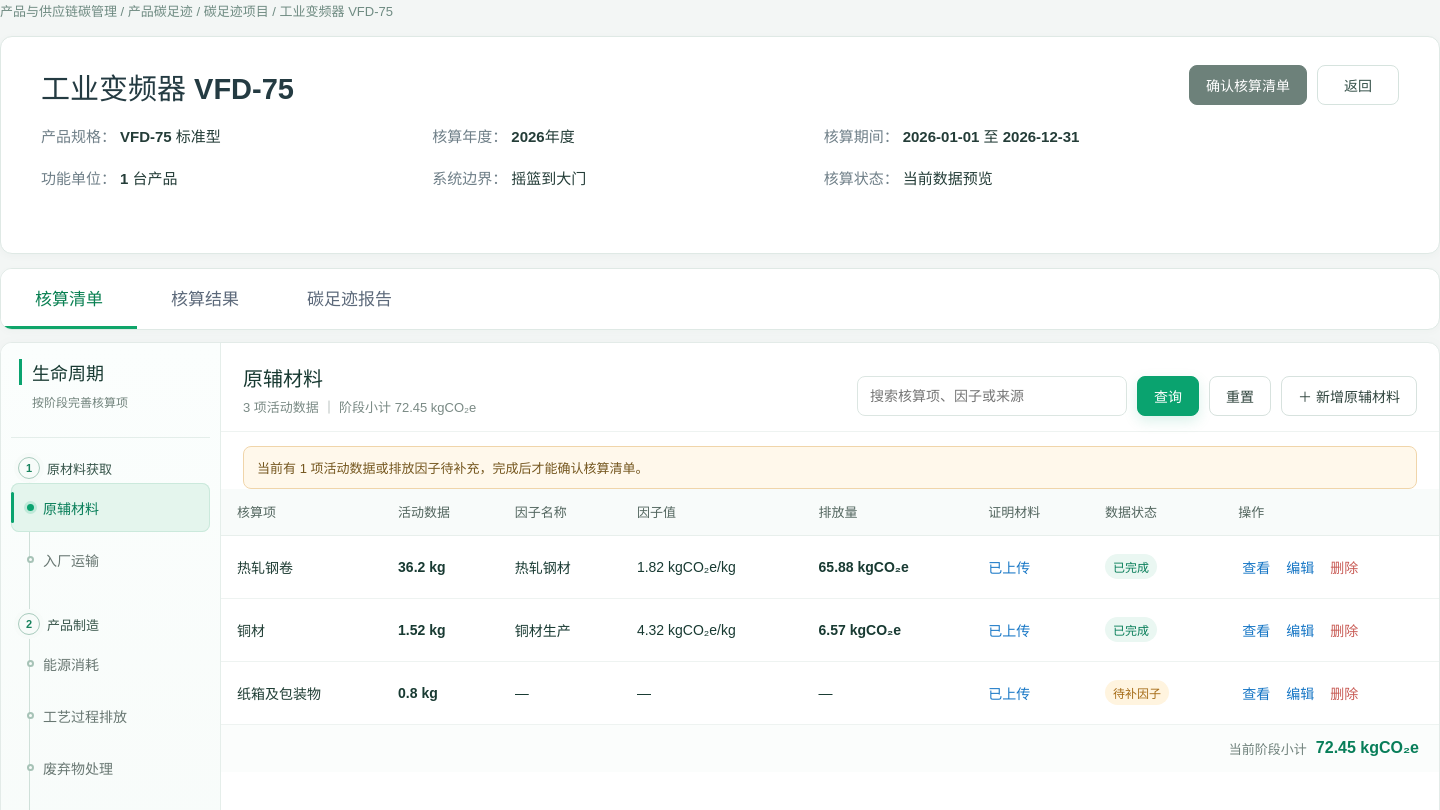
Test: 产品碳足迹运输活动 › 在项目工作台内保持当前项目上下文并切换 Tab
Click the button "核算结果" at (205, 299), box [137,269,273,329]
(page scrolled)
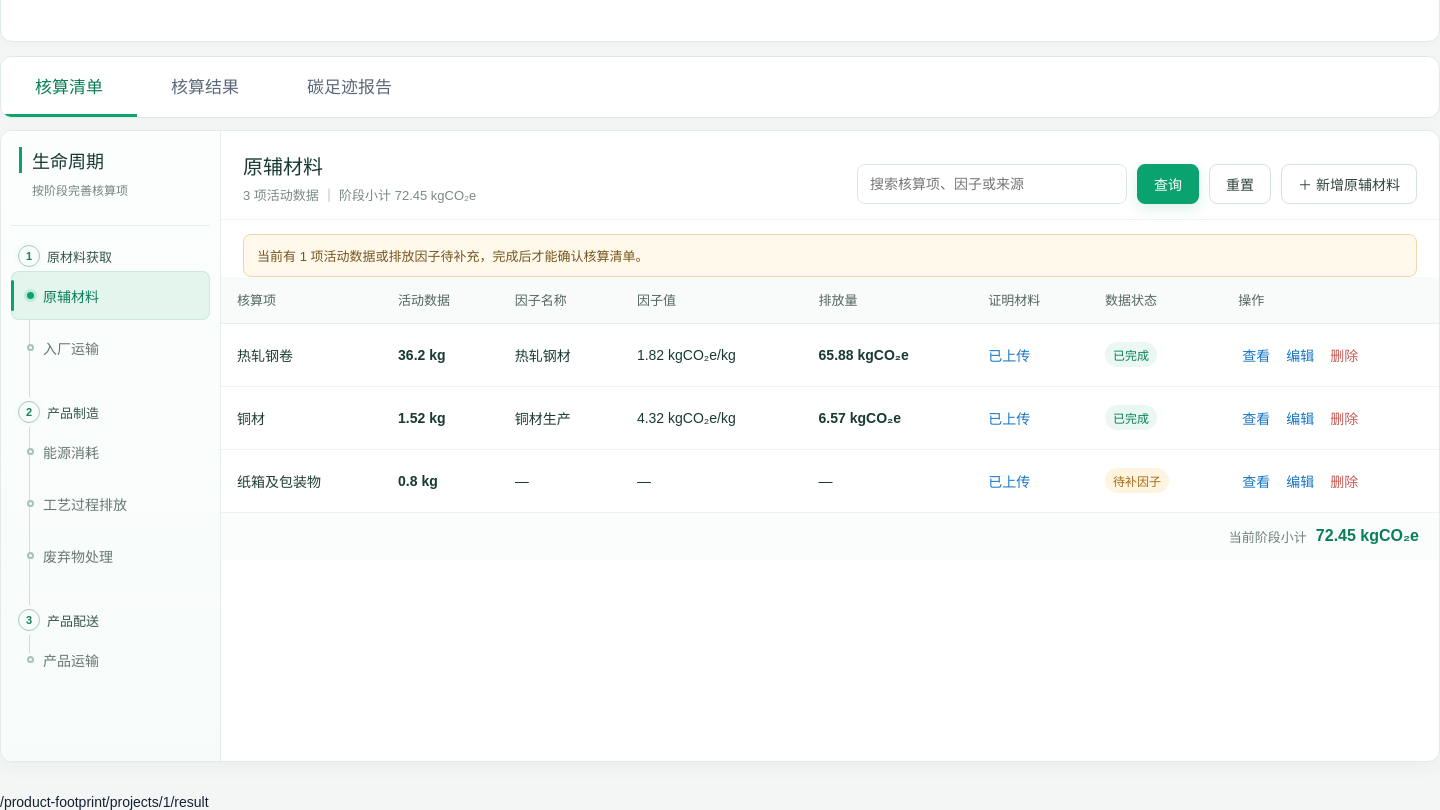
Expected: the text with test id "location" reads "/product-footprint/projects/1/result", [0,794,208,809]
